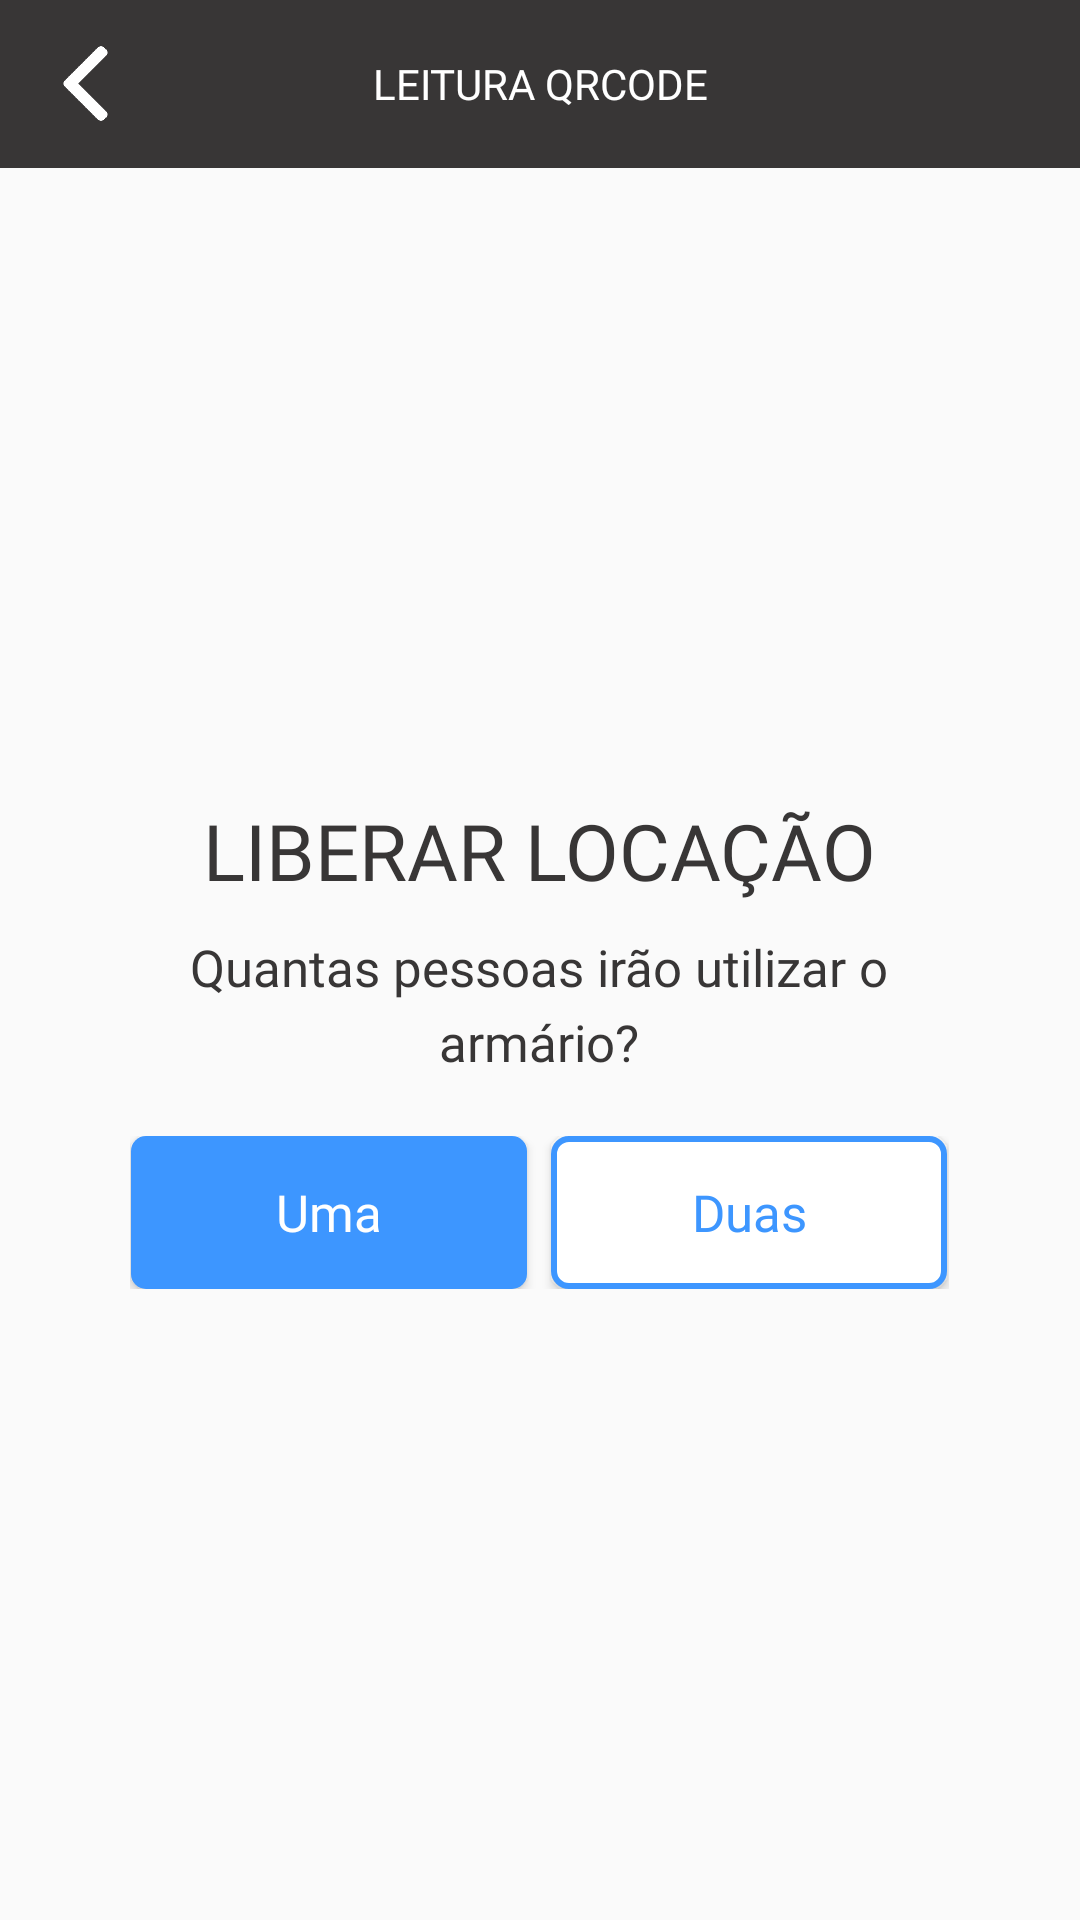

Point at icon controls on the screen. Image size 1080 x 1920, points as point (x, y).
left arrow: point (85, 83)
